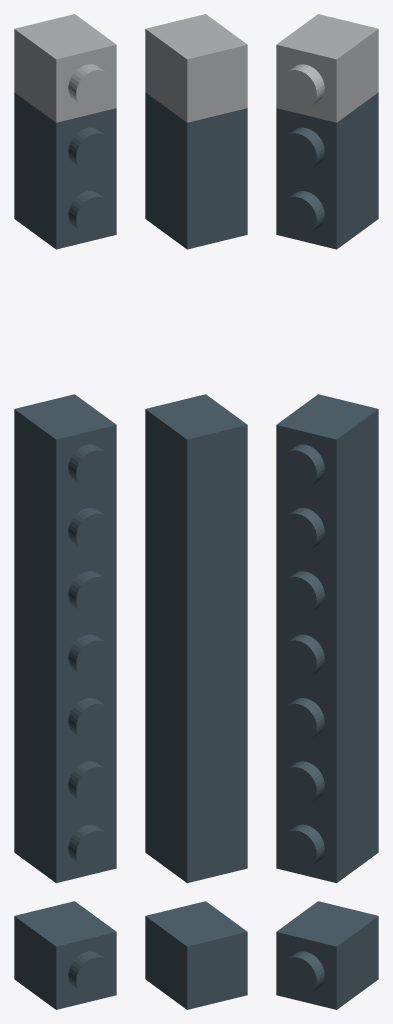
File: current.glb
3 renders of one model, left to right at view 1: azimuth 30°, elevation 25°; view 2: azimuth 210°, elevation 25°; view 3: azimuth 330°, elevation 25°, orthographic.
Parts seen in each view (by area): view 1: world; view 2: world; view 3: world.
Boxes of the visible parts, left/top/right/bottom form: world: left=14, top=14, right=116, bottom=1009; world: left=145, top=14, right=247, bottom=1009; world: left=276, top=14, right=378, bottom=1009.
Size of the model in its own units: 8 by 120 by 11.4.
